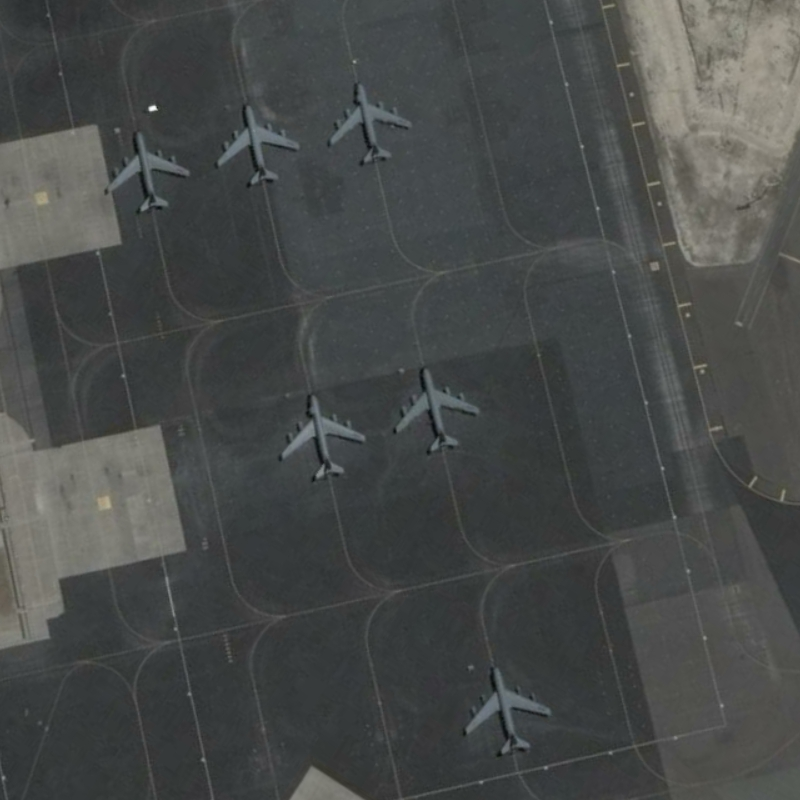A14: (460, 661, 553, 759), (391, 363, 482, 458), (278, 390, 369, 484), (325, 78, 415, 168), (100, 128, 193, 215), (212, 100, 303, 188)
